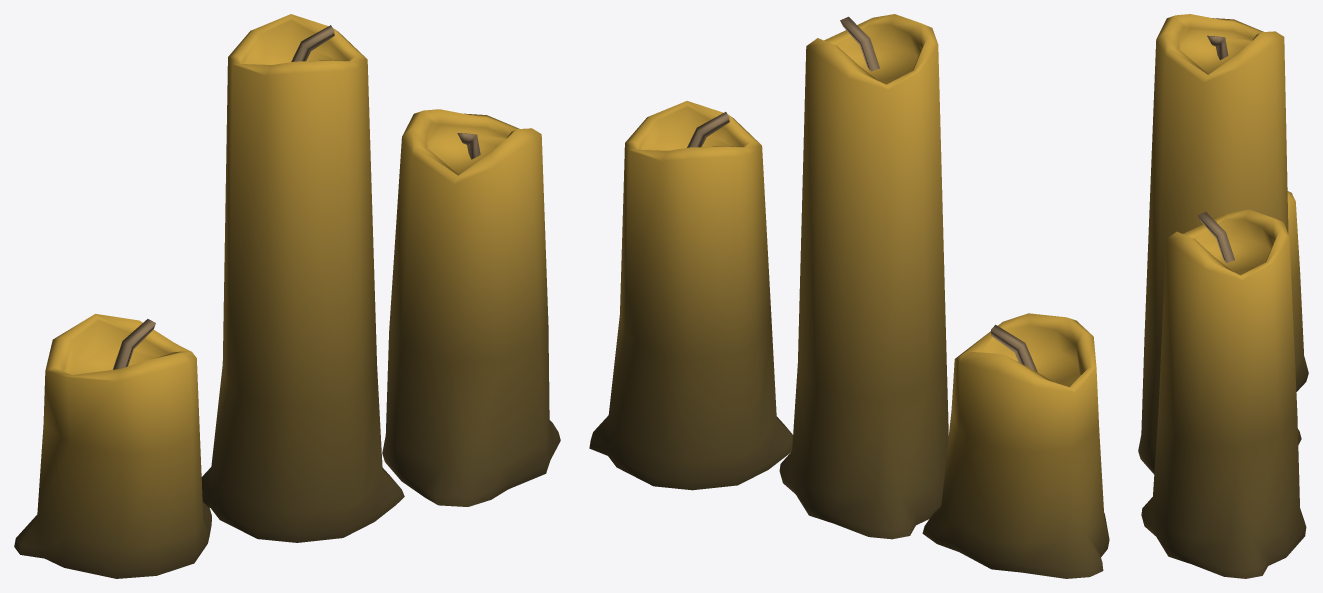
Rendered from rpgpp_ag_candles_01.fbx.
The picture shows the model from 3 angles, left to right: view 1: azimuth 30°, elevation 25°; view 2: azimuth 150°, elevation 25°; view 3: azimuth 270°, elevation 25°; orthographic projection. The views are drawn at different scales.
Parts seen in each view (by area): view 1: rpgpp_ag_candles_01; view 2: rpgpp_ag_candles_01; view 3: rpgpp_ag_candles_01.
Boxes of the visible parts, <box> form: rpgpp_ag_candles_01: <box>14,14,560,578</box>; rpgpp_ag_candles_01: <box>589,14,1109,578</box>; rpgpp_ag_candles_01: <box>1138,14,1308,578</box>.
Bounding box in the file's own units: 0.3036 × 0.2611 × 0.0928.
